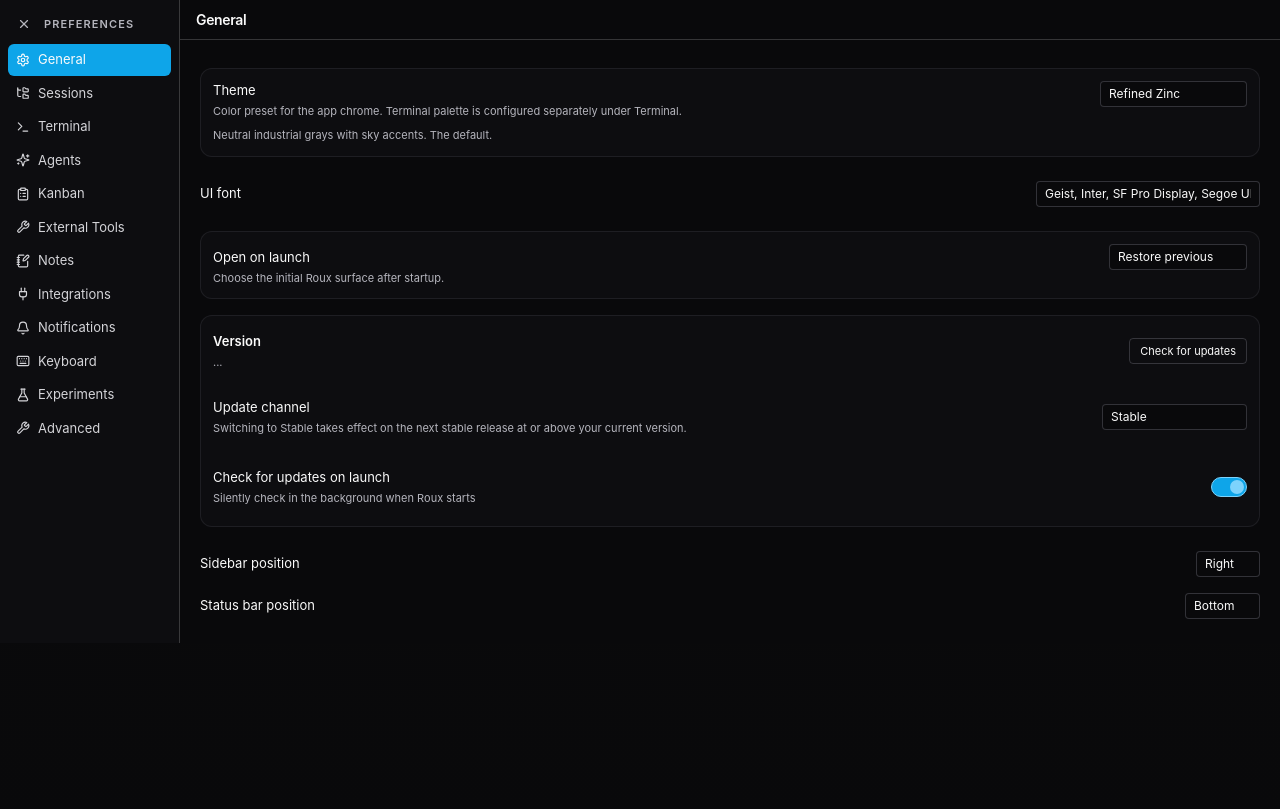
Test: SettingsPanel Kanban tab › clears workflow action status when the JSON path changes
Click the button "Kanban".
click(90, 194)  # box left=8, top=178, right=171, bottom=210
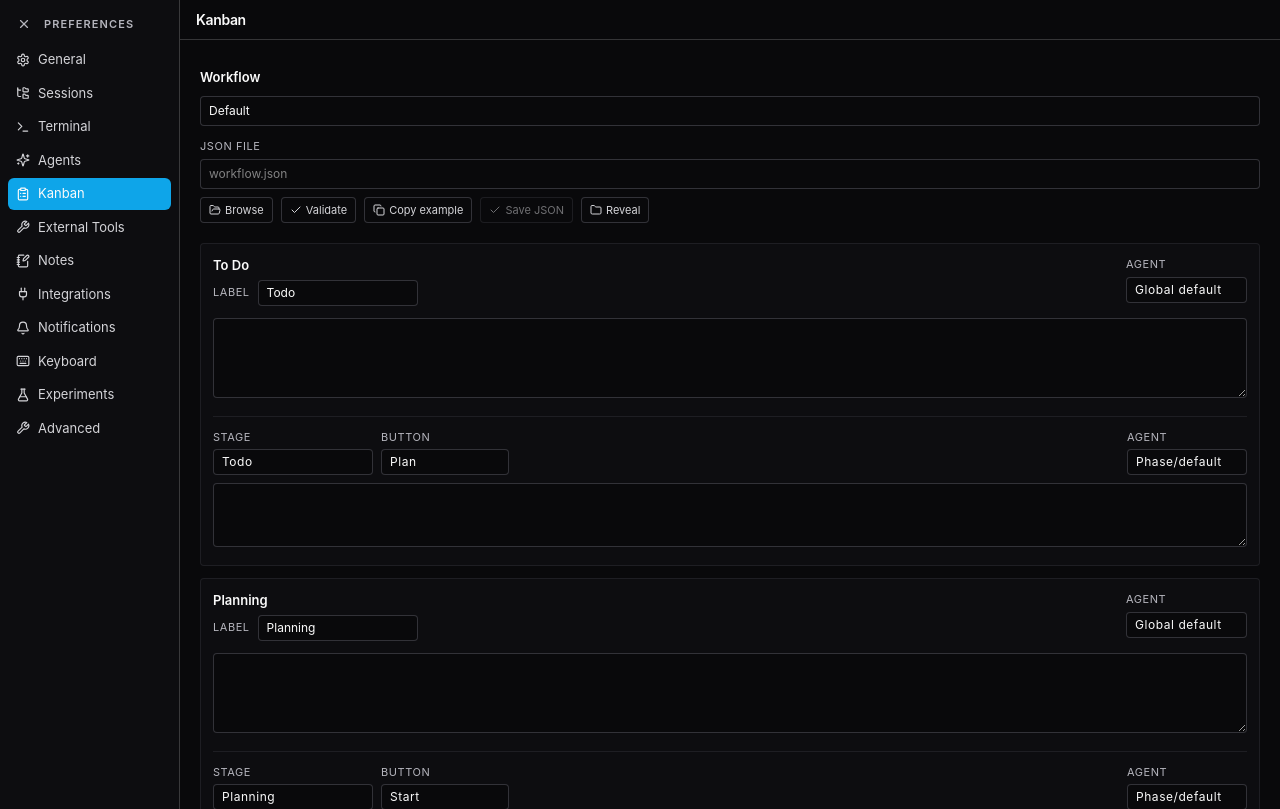
Click the button "Validate".
click(318, 210)  # box left=281, top=196, right=356, bottom=223
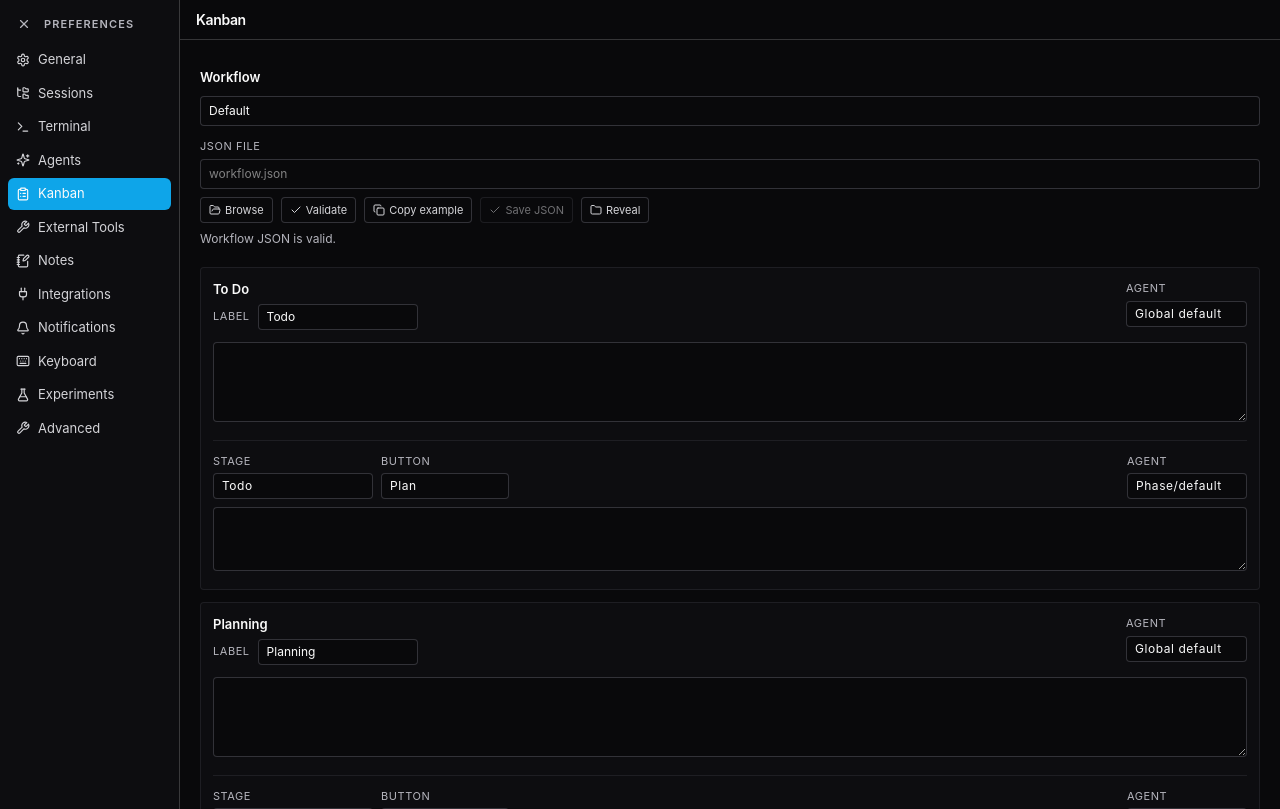
Result: the text "Workflow JSON is valid." is shown at left=200, top=231, right=336, bottom=246
Type "changed-workflow.json" into the field named "Workflow JSON file".
click(730, 174); type("changed-workflow.json")  # box left=200, top=158, right=1260, bottom=188
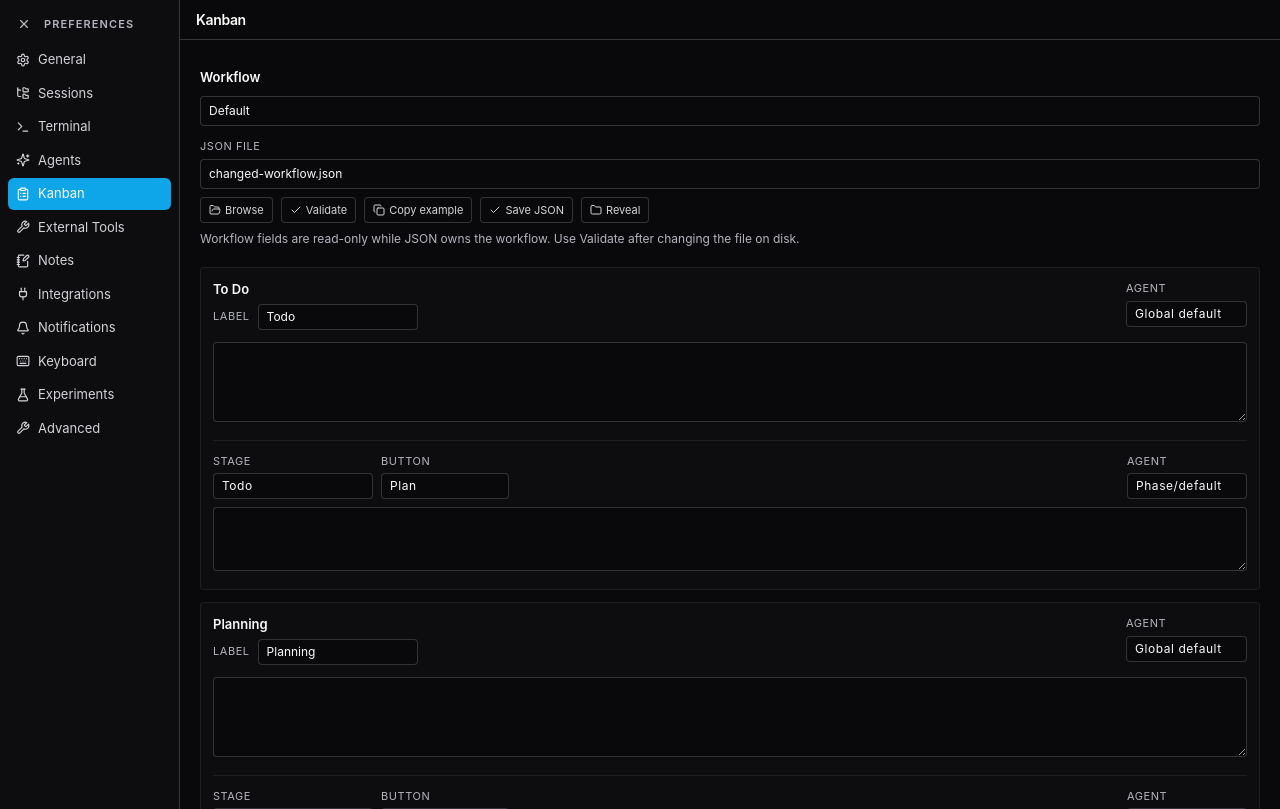
Result: the text "Workflow JSON is valid." is gone
